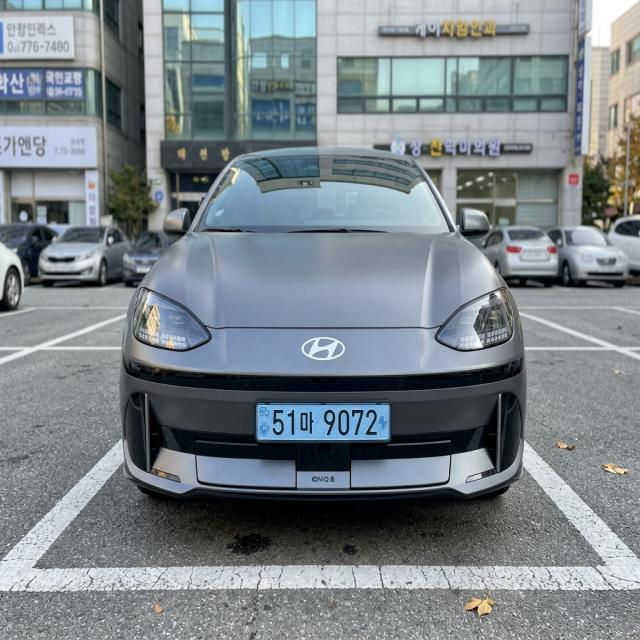car: (239, 391, 424, 457)
carev: (374, 401, 390, 440), (257, 401, 271, 442)
